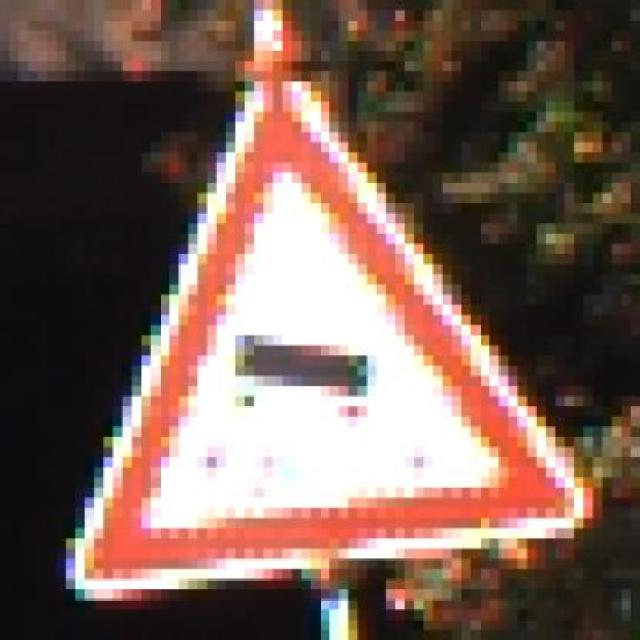Slippery Road Ahead: (65, 61, 602, 599)
